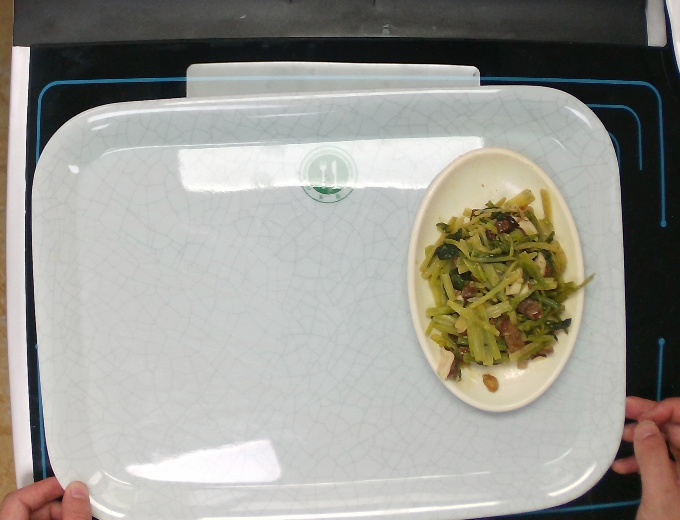JYsf-Tuo_Yuan_Wan: (402, 144, 588, 415)
